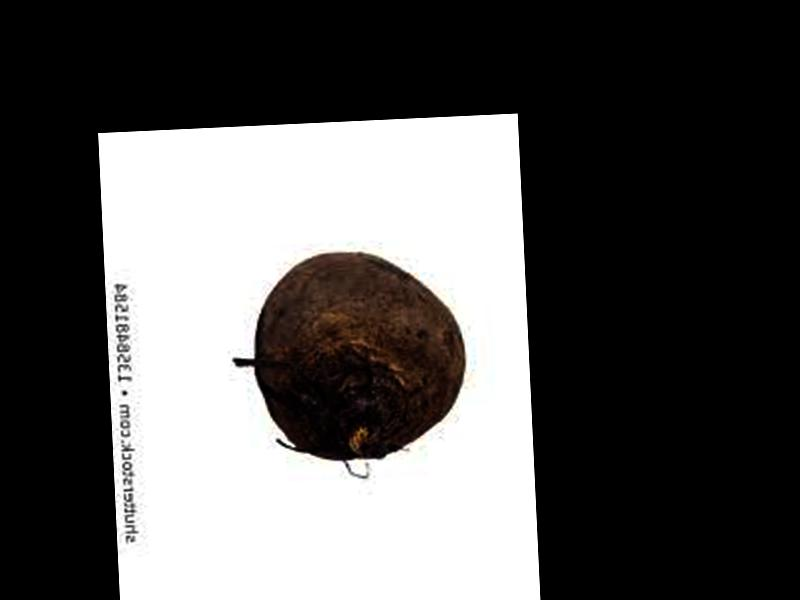Beet: (251, 244, 468, 461)
